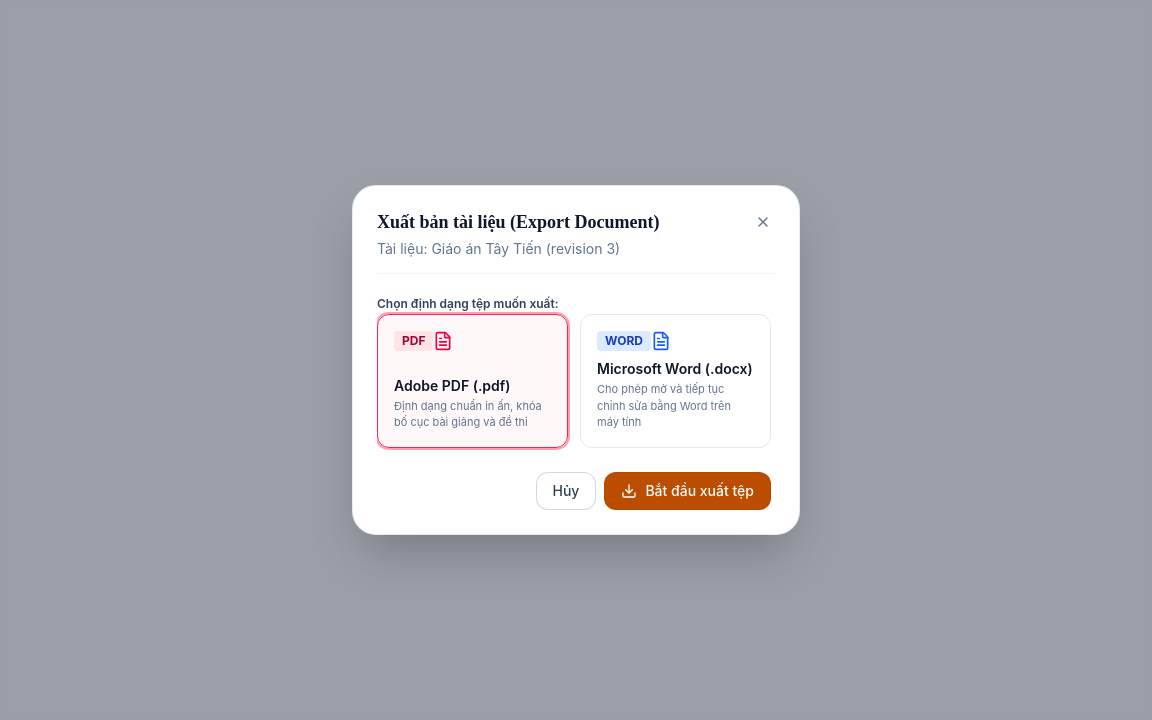
it: ExportModal › displays error message when export fails
Click the button "Bắt đầu xuất tệp" at (688, 491), box [604,472,771,510]
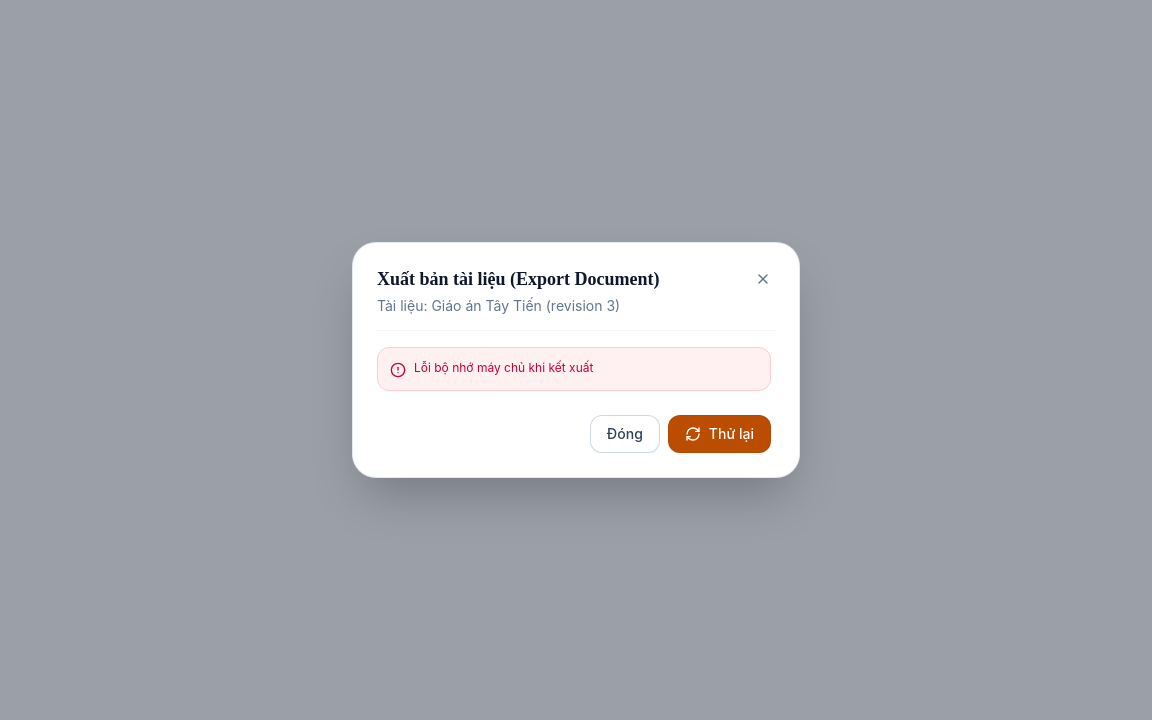
Expected: the text "Lỗi bộ nhớ máy chủ khi kết xuất" is shown, [414,360,593,376]
Expected: the button "Thử lại" is shown, [668,415,771,453]
